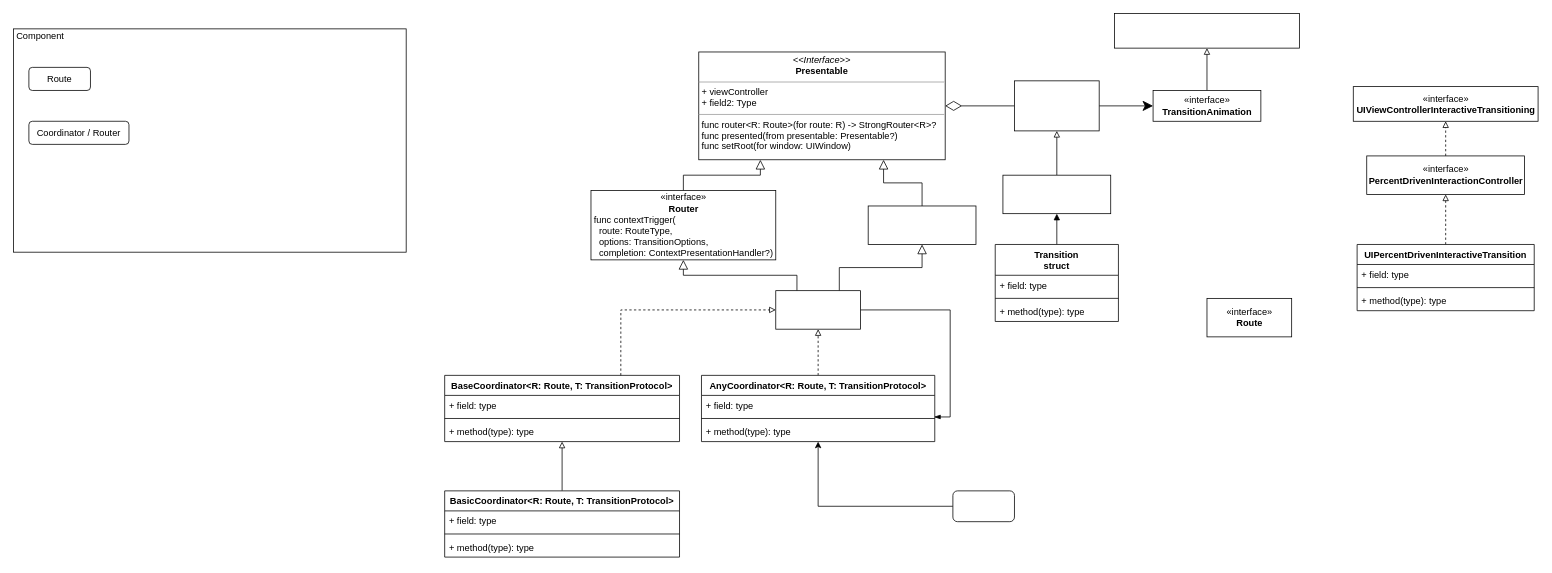
Some shapes in this 1552 by 573 pixel diagram are drawn without their labels. The shapes that lost their labels are listed below. From the top down, each one's box as (x1, y1, x2, y2) in pixels, then its label:
(1114, 13, 1299, 48): «interface» UIViewControllerAnimatedTransitioning
(1014, 80, 1099, 131): «interface» TransitionContext presentables animation
(1002, 174, 1111, 214): «interface» TransitionProtocol <RootViewController>
(867, 205, 976, 244): «interface» TransitionPerformer rootViewController
(775, 290, 860, 329): «interface» Coordinator
(952, 490, 1014, 522): user
